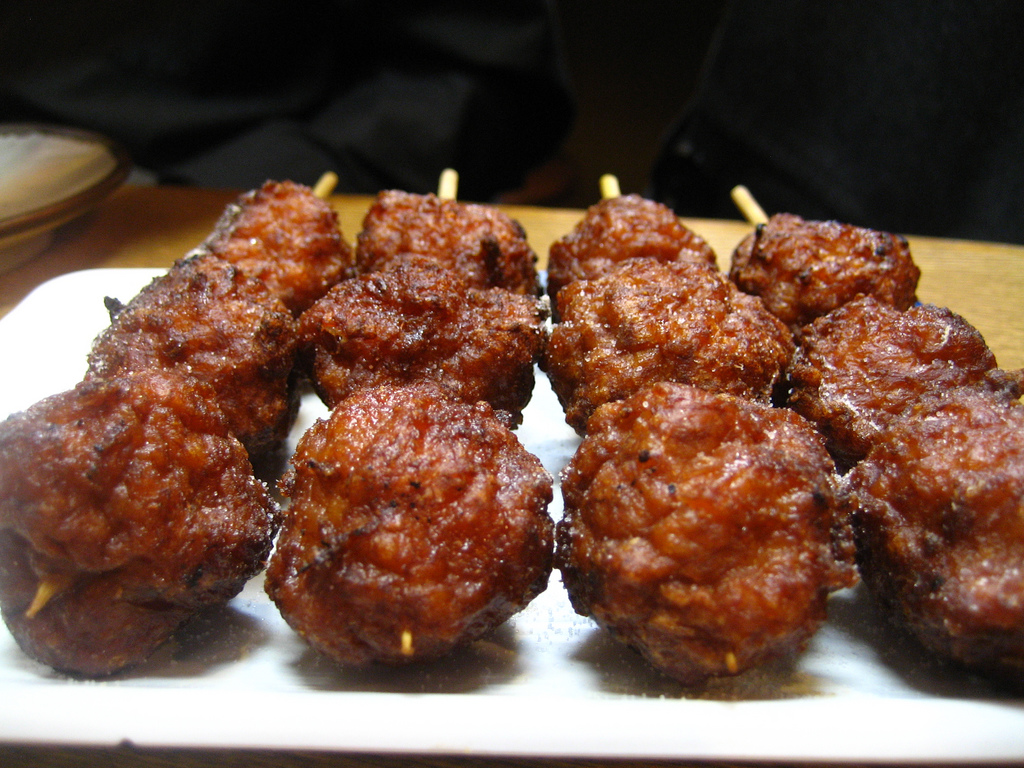meatballs: (211, 181, 929, 604)
